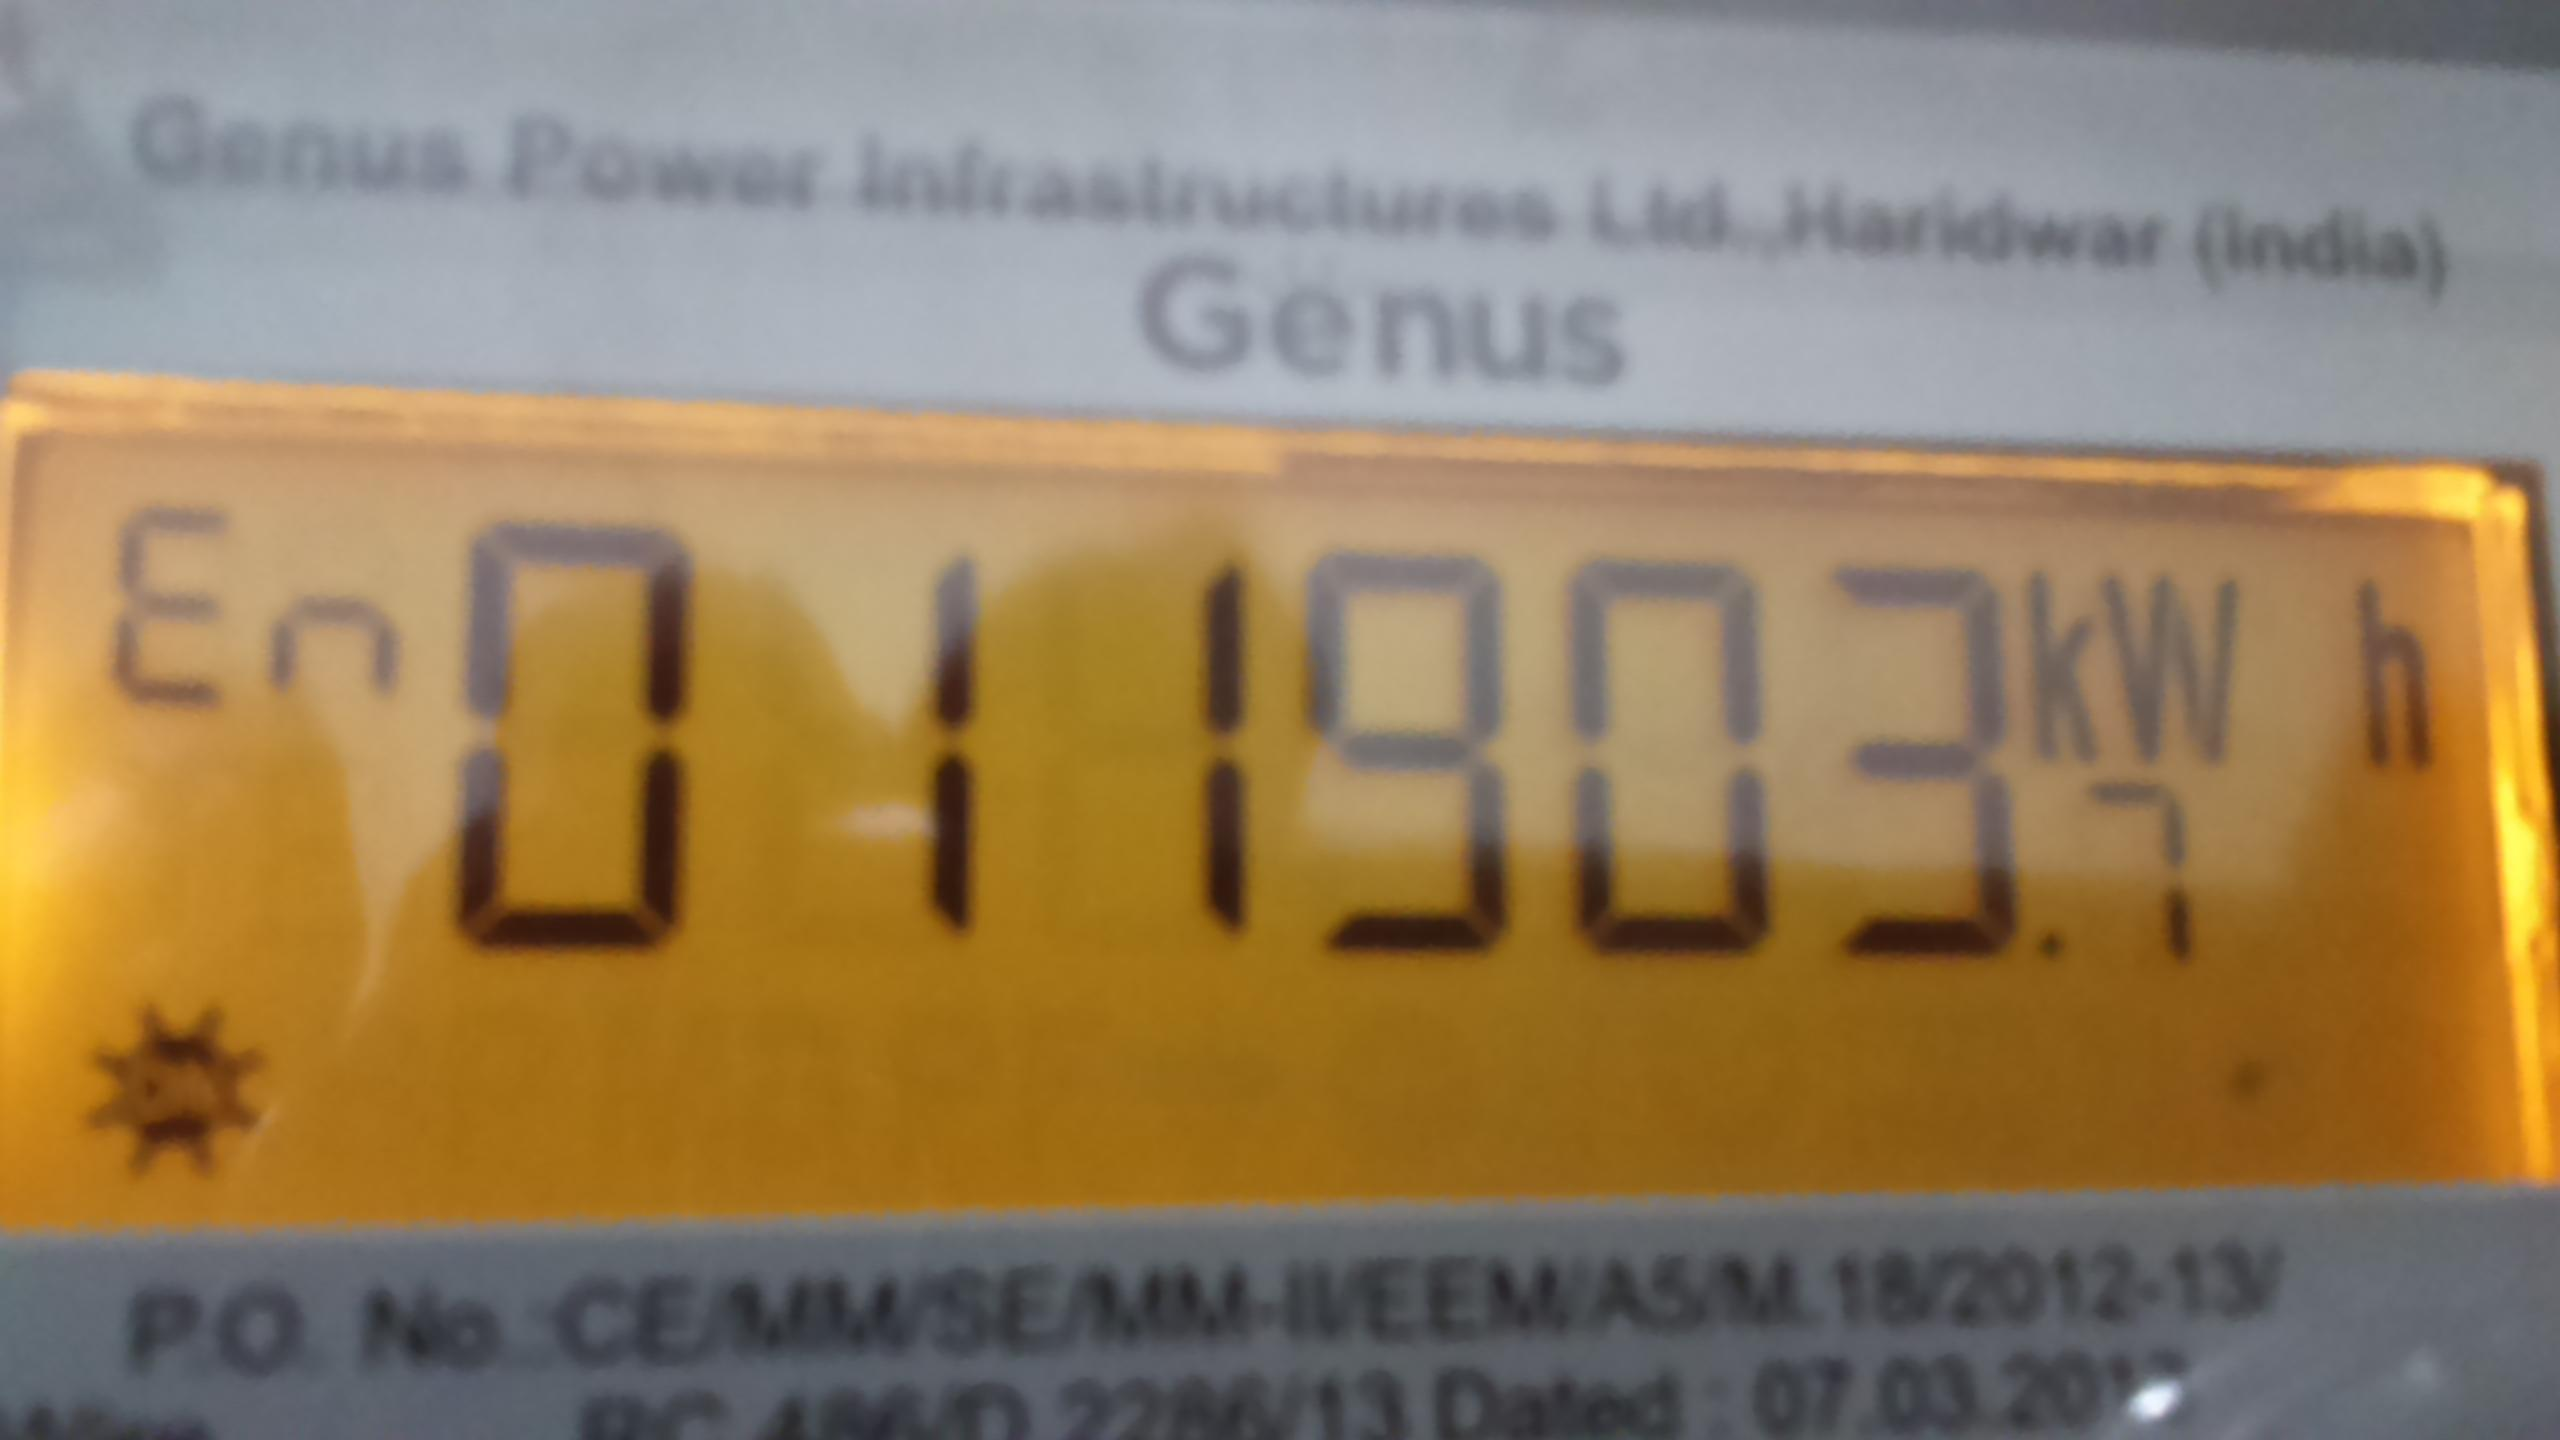.: (2006, 556, 2463, 821)
0: (2004, 898, 2092, 1002)
1: (427, 484, 731, 958), (1537, 508, 1781, 962)
2: (837, 533, 1007, 979), (1141, 519, 1291, 962)
4: (1804, 524, 2006, 956)
8: (2068, 765, 2273, 986)
:: (1291, 533, 1537, 969)
